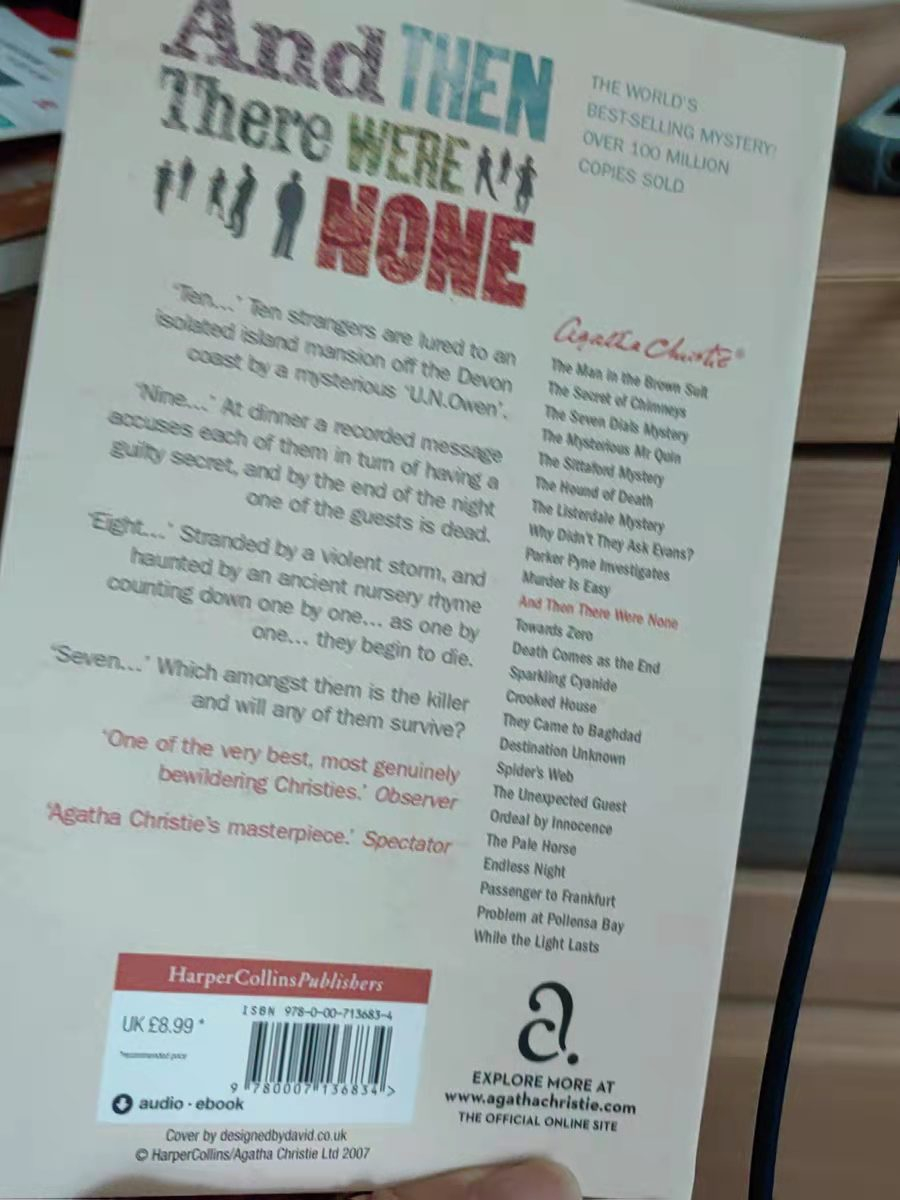book: (10, 2, 854, 1200)
